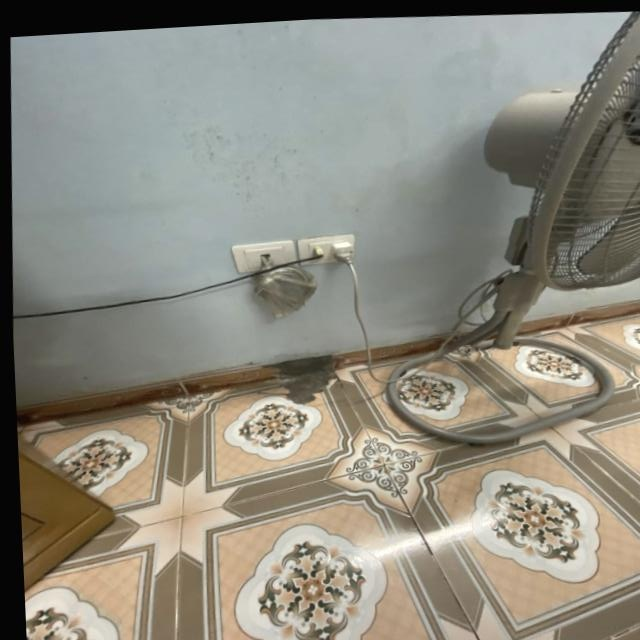outlet: (231, 237, 300, 276), (297, 231, 357, 268)
